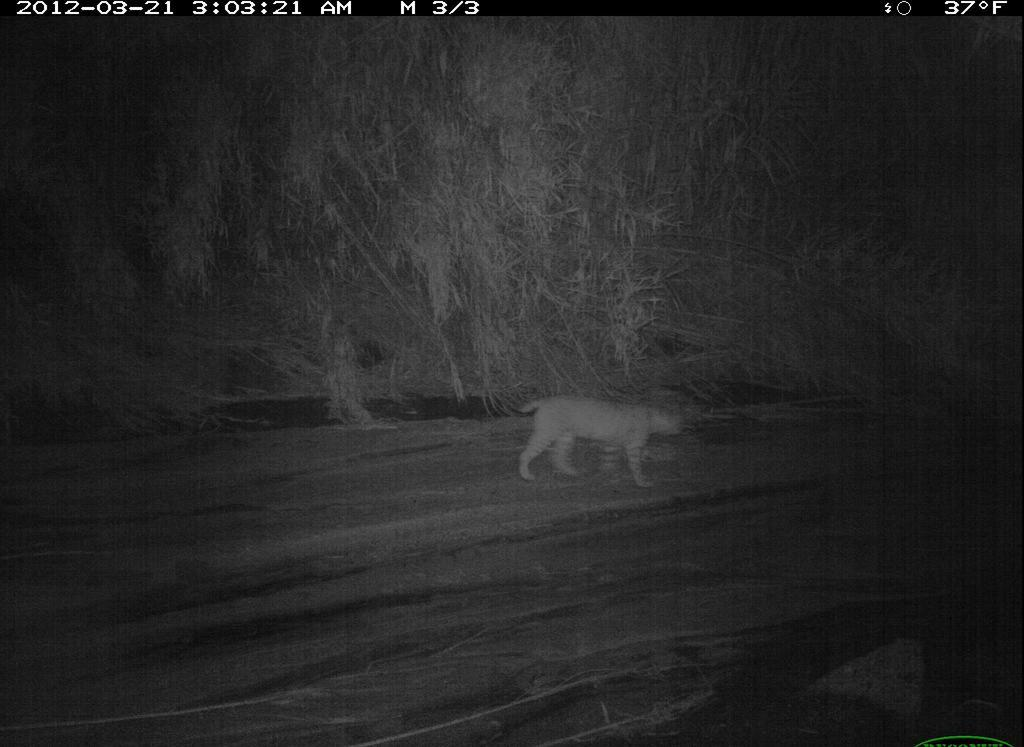bobcat: (505, 386, 688, 504)
